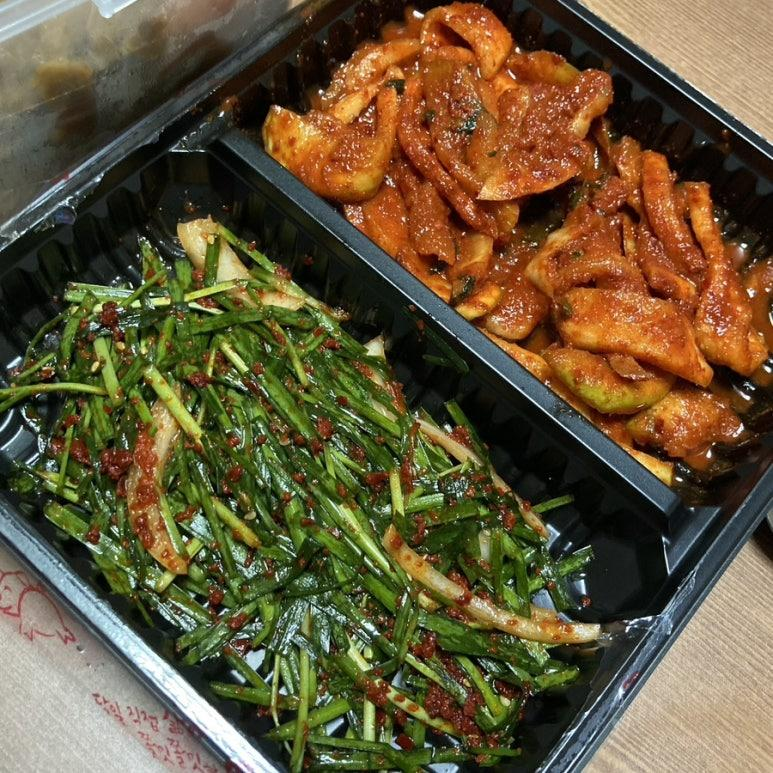Lunch Box: (0, 0, 772, 772), (0, 0, 304, 235)
